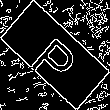P_NE: (26, 24, 84, 86)
